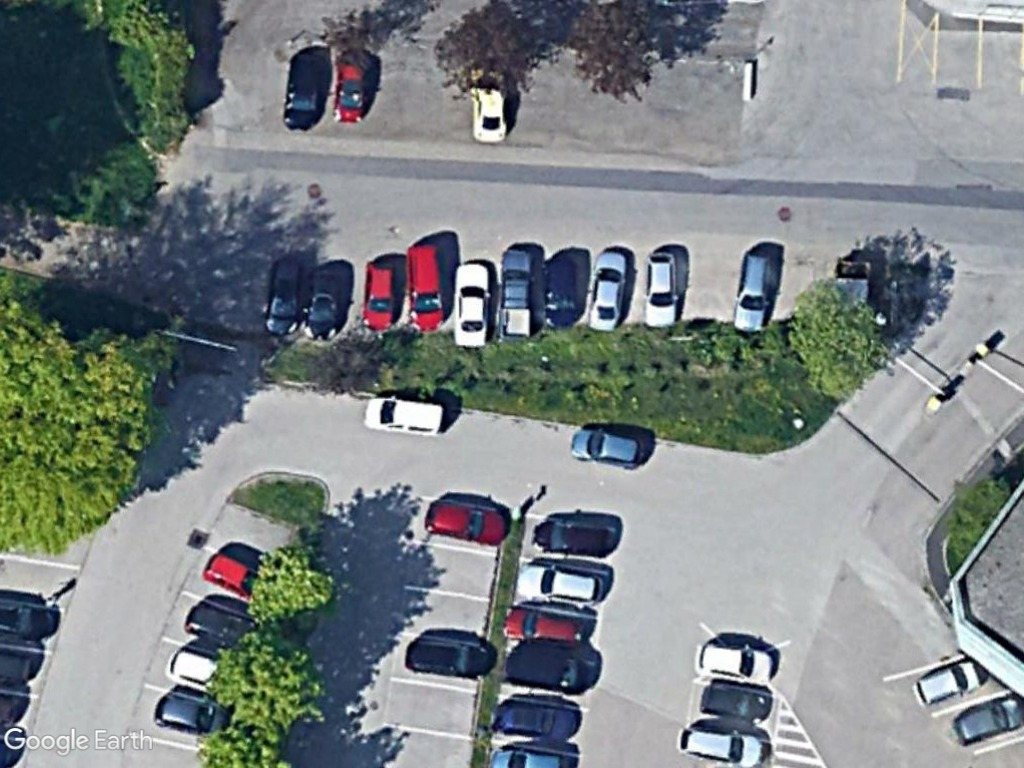car: (487, 693, 588, 740), (404, 240, 453, 336), (421, 498, 513, 548), (566, 422, 653, 474), (729, 243, 778, 335), (261, 253, 311, 343), (497, 601, 589, 649), (278, 45, 328, 133), (450, 253, 494, 353), (676, 722, 771, 768), (946, 689, 1024, 745), (907, 656, 989, 709), (517, 560, 609, 607), (404, 634, 497, 680), (692, 639, 781, 686), (527, 515, 619, 560), (688, 682, 784, 725), (585, 247, 632, 333), (641, 247, 685, 335), (302, 262, 348, 345), (358, 257, 401, 332), (540, 252, 580, 332)
other: (497, 243, 540, 346)
van: (357, 392, 451, 442)
